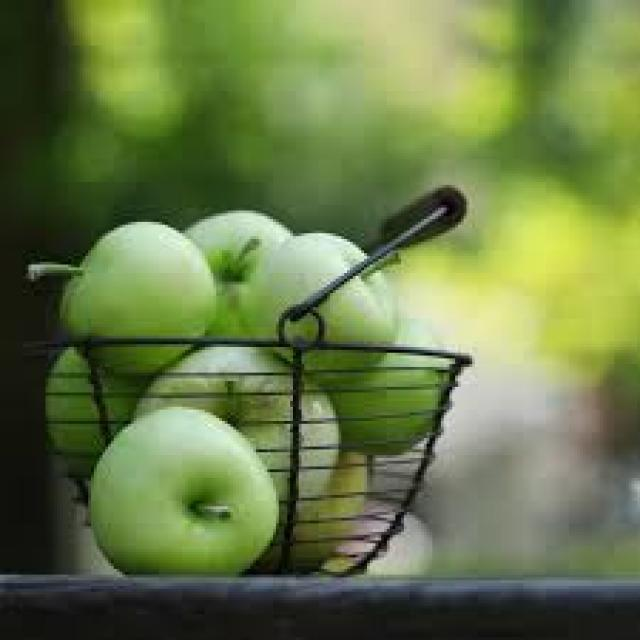organic waste: (125, 339, 339, 529), (85, 404, 276, 574), (23, 216, 219, 373), (307, 276, 447, 458), (248, 228, 396, 378), (40, 344, 170, 484), (179, 208, 293, 344), (262, 447, 364, 566)
